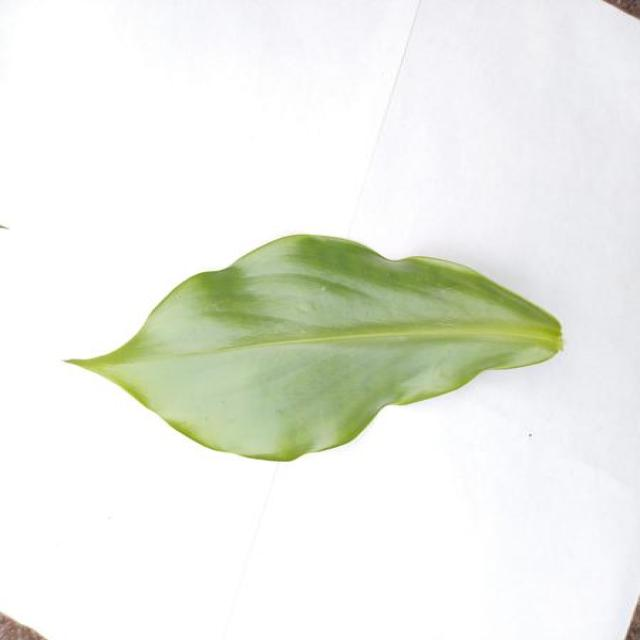insulin: (68, 235, 562, 461)
